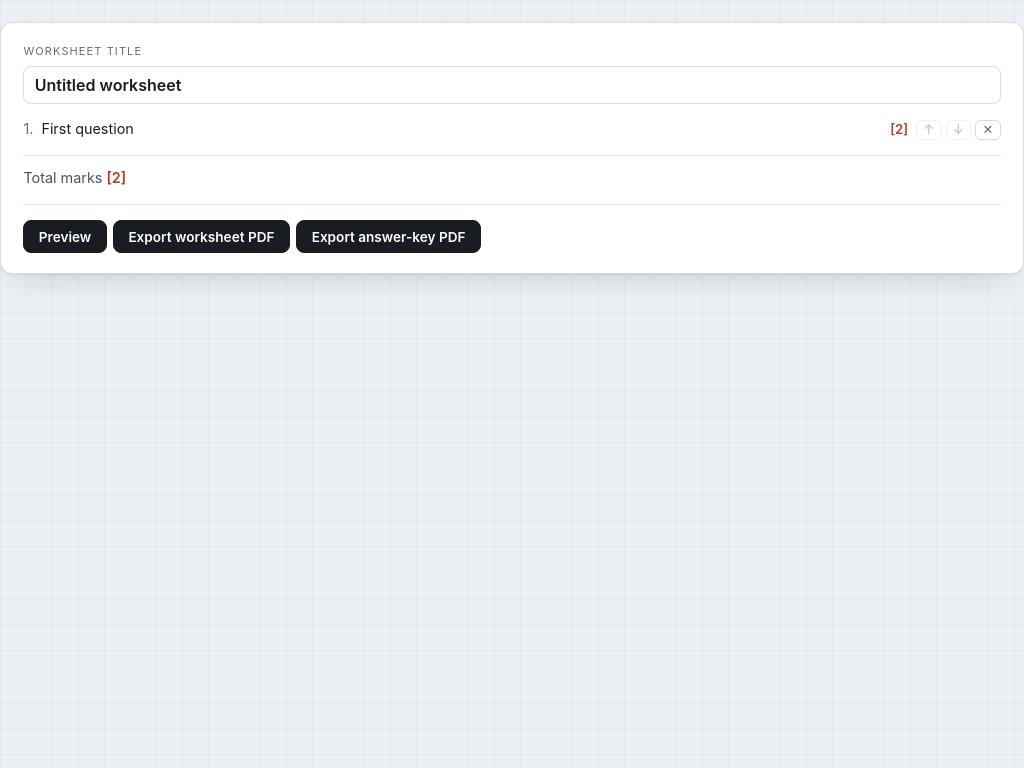
Test: WorksheetTray › export actions › surfaces an error message when an export fails
This screenshot has width=1024, height=768.
Click the button "Export worksheet PDF".
click(201, 237)  # box x1=113 y1=220 x2=290 y2=253
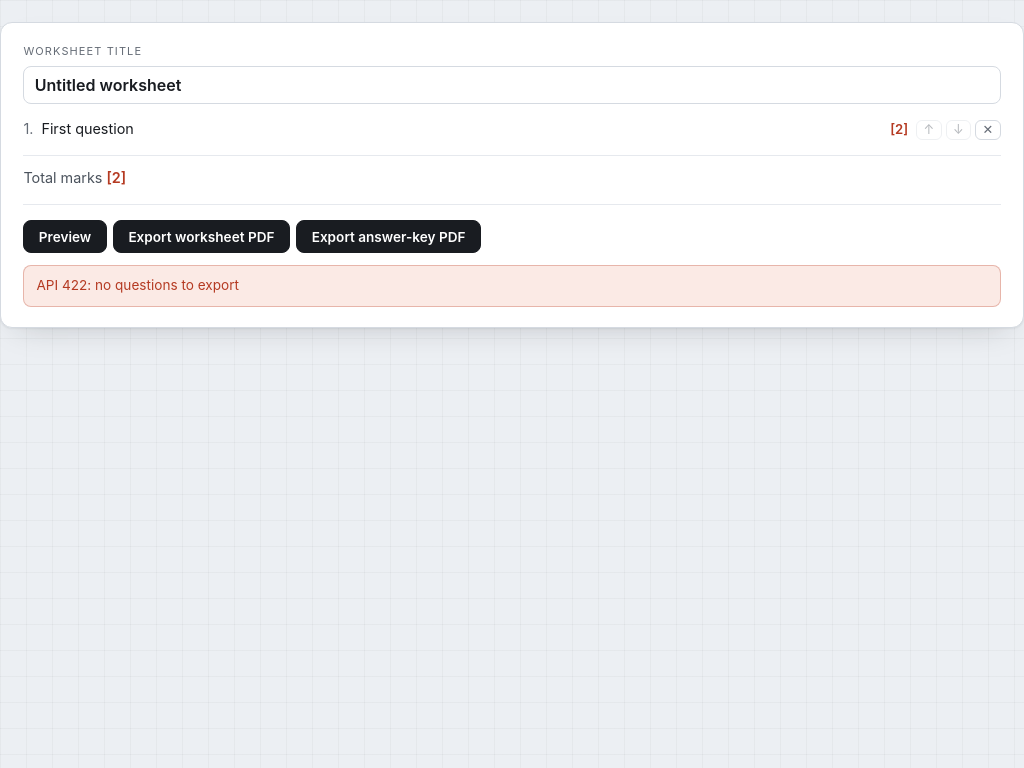
Expected: the message reads "API 422: no questions to export", x1=36 y1=277 x2=239 y2=293
